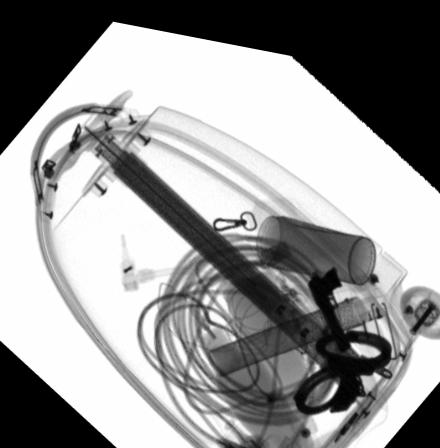Gun: (303, 248, 354, 341)
HandCuffs: (289, 311, 393, 401)
